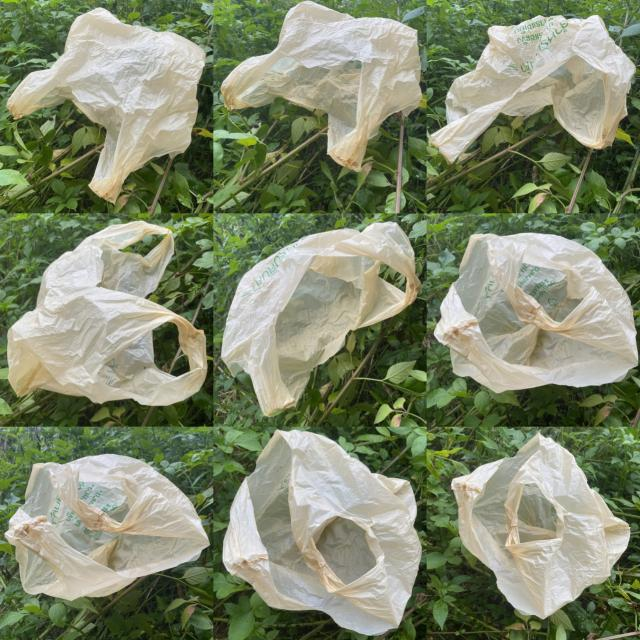Single-layer Plastic: (222, 430, 421, 635), (221, 222, 421, 415), (8, 8, 205, 202), (8, 221, 208, 405), (221, 1, 421, 171), (451, 434, 630, 619), (435, 232, 638, 391), (430, 15, 635, 162), (6, 454, 209, 600)
